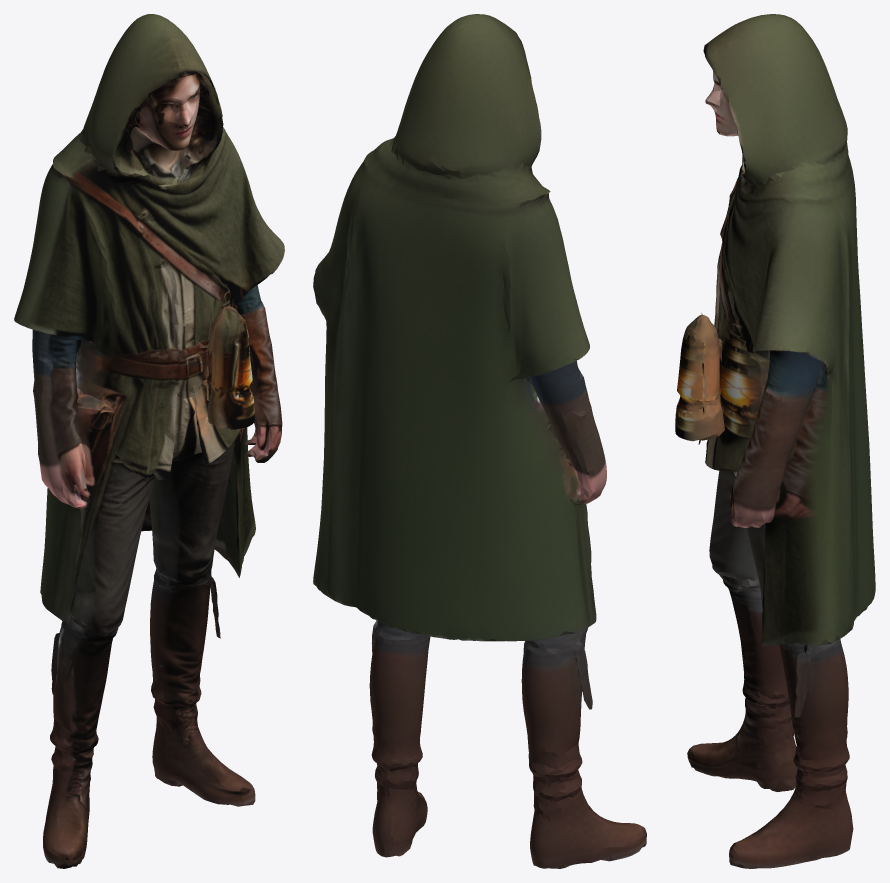
File: ranger.glb
3 renders of one model, left to right at view 1: azimuth 30°, elevation 25°; view 2: azimuth 150°, elevation 25°; view 3: azimuth 270°, elevation 25°, orthographic. The views are drawn at different scales.
Visible parts, largest first — view 1: Ranger_Reconstructed; view 2: Ranger_Reconstructed; view 3: Ranger_Reconstructed.
Boxes of the visible parts, left/top/right/bottom form: Ranger_Reconstructed: left=14, top=14, right=284, bottom=868; Ranger_Reconstructed: left=313, top=14, right=646, bottom=868; Ranger_Reconstructed: left=675, top=14, right=875, bottom=868.
Size of the model in its own units: 0.6252 by 1.75 by 0.3919.
1 material, 1 textured.
